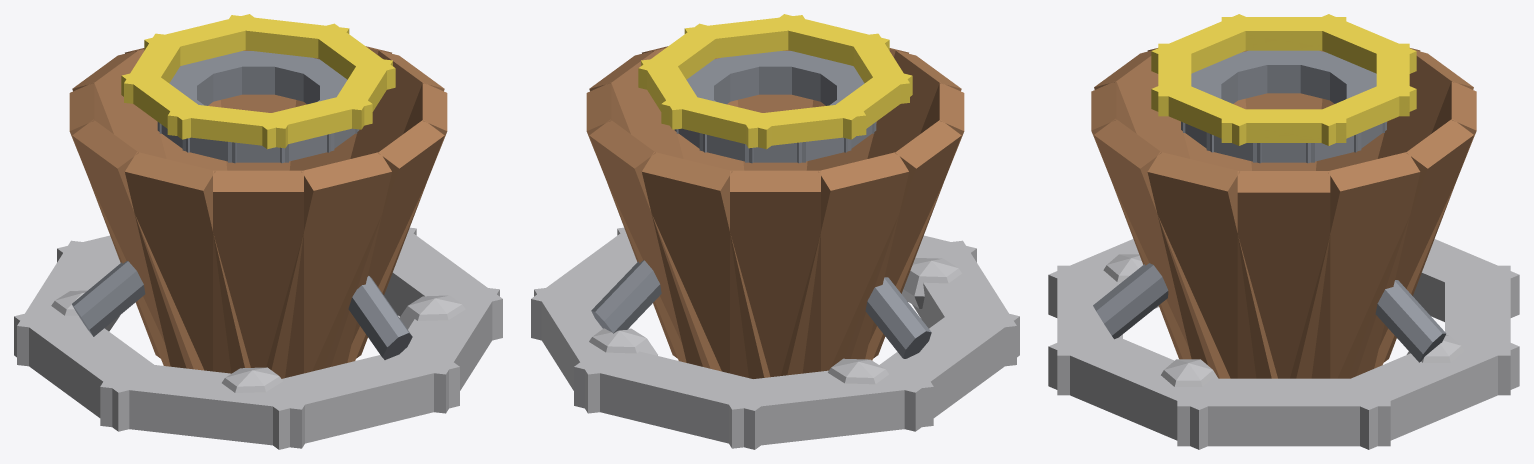
Rendered from geyser.glb.
3 renders of one model, left to right at view 1: azimuth 30°, elevation 25°; view 2: azimuth 150°, elevation 25°; view 3: azimuth 270°, elevation 25°, orthographic. The views are drawn at different scales.
Visible parts, largest first — view 1: geyser; view 2: geyser; view 3: geyser.
Boxes of the visible parts, x1=… form: geyser: x1=14, y1=14, x2=502, y2=449; geyser: x1=531, y1=14, x2=1019, y2=449; geyser: x1=1048, y1=14, x2=1519, y2=449.
Size of the model in its own units: 1.5 by 1 by 1.5.
